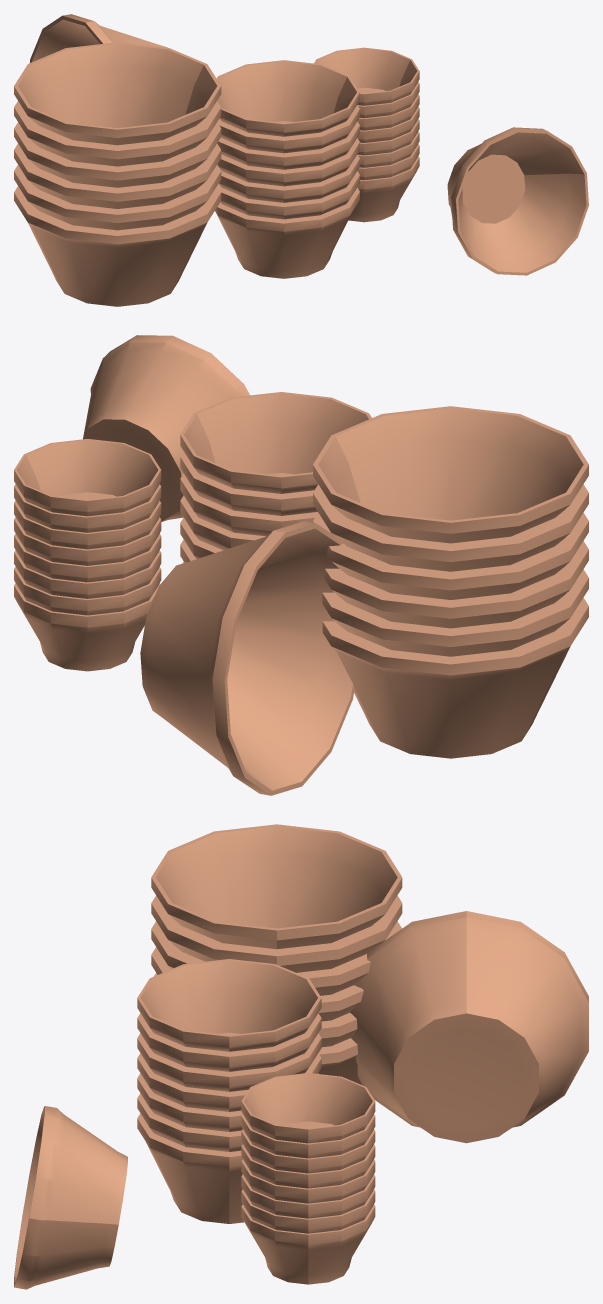
Rendered from garden-centre-and-florist-plant-pot-stack-terracotta-d0b70b3e__17746.glb.
3 views of the same model, one above another, from view 1: azimuth 30°, elevation 25°; view 2: azimuth 150°, elevation 25°; view 3: azimuth 270°, elevation 25° (orthographic). The views are drawn at different scales.
Visible parts, largest first — view 1: plant-pot-stack-terracotta; view 2: plant-pot-stack-terracotta; view 3: plant-pot-stack-terracotta.
Boxes of the visible parts, x1,y1,x2,y2 form: plant-pot-stack-terracotta: [14, 14, 588, 306]; plant-pot-stack-terracotta: [14, 335, 588, 795]; plant-pot-stack-terracotta: [14, 824, 588, 1289].
Bounding box in the file's own units: 0.8099 × 0.33 × 0.7277.
